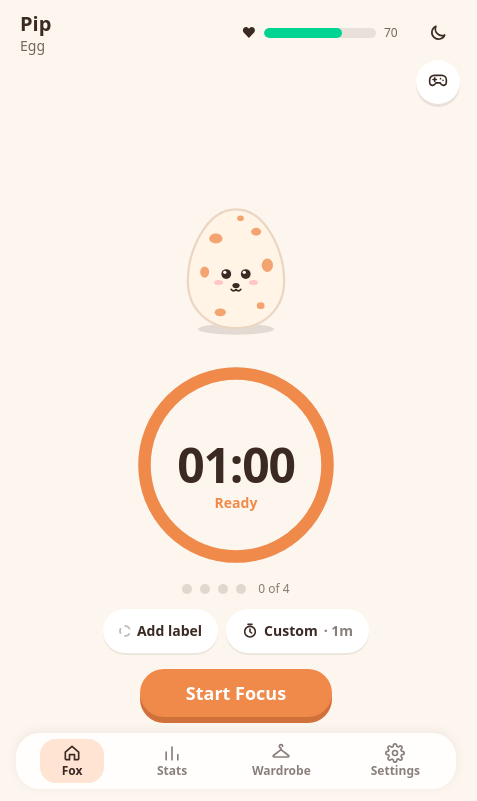
Test: leave detection › does not penalize leaving while paused or during a break
Click the button "Start Focus": point(236, 693) [140, 669, 332, 717]
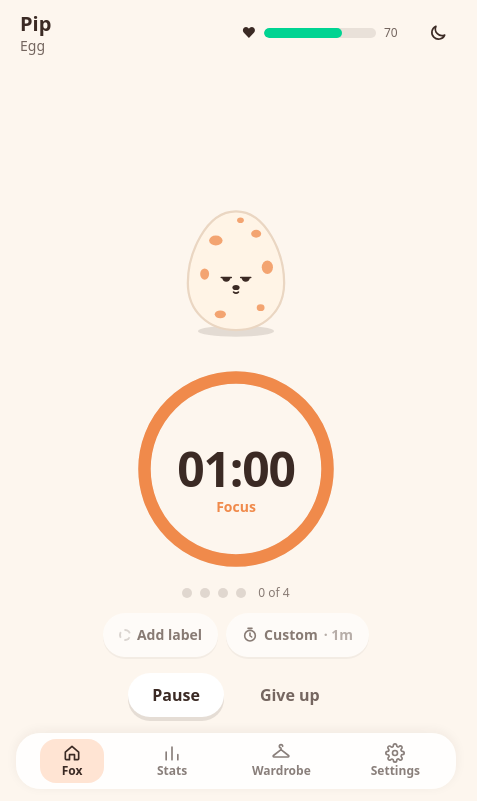
Click the button "Pause": point(176, 695) [128, 673, 224, 717]
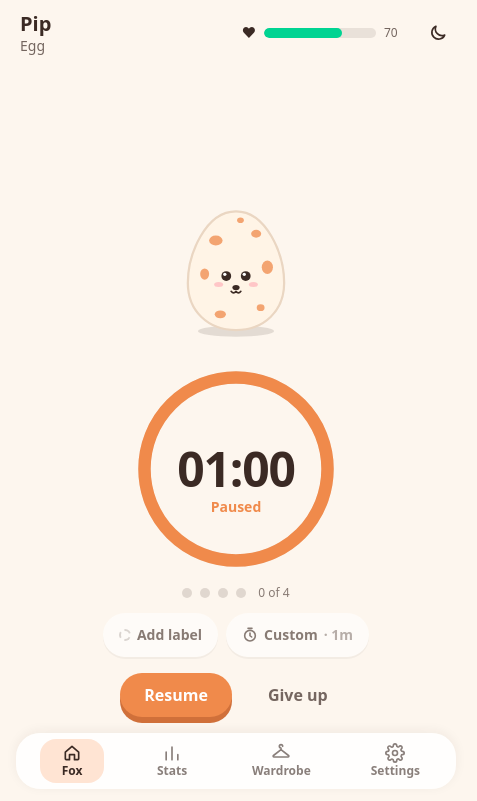
Click the button "Resume": point(176, 695) [120, 673, 232, 717]
Wait 63500 ms
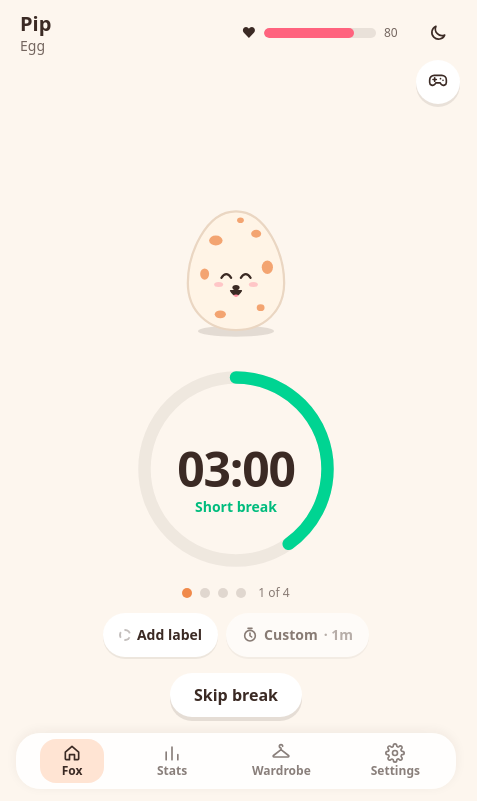
Expected: the text with test id "phase" reads "Short break", [195, 497, 277, 516]
